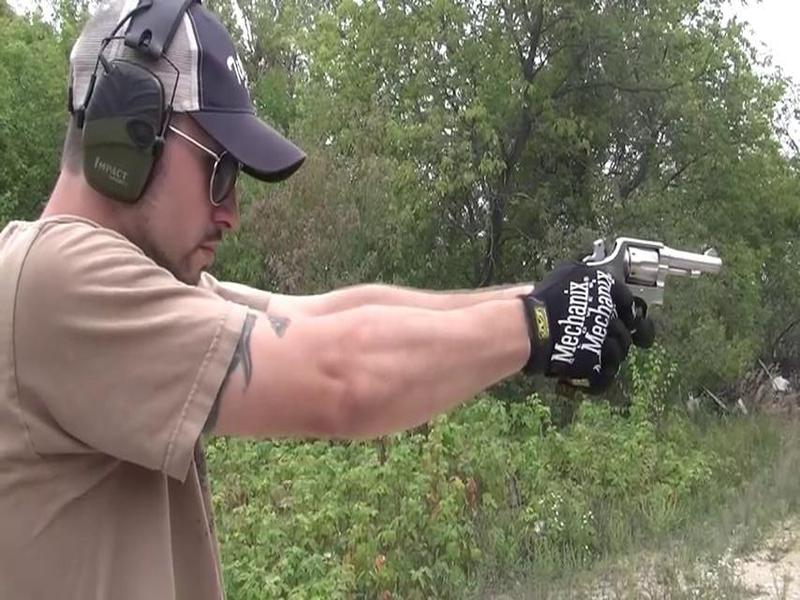Revolver: (572, 226, 736, 337)
